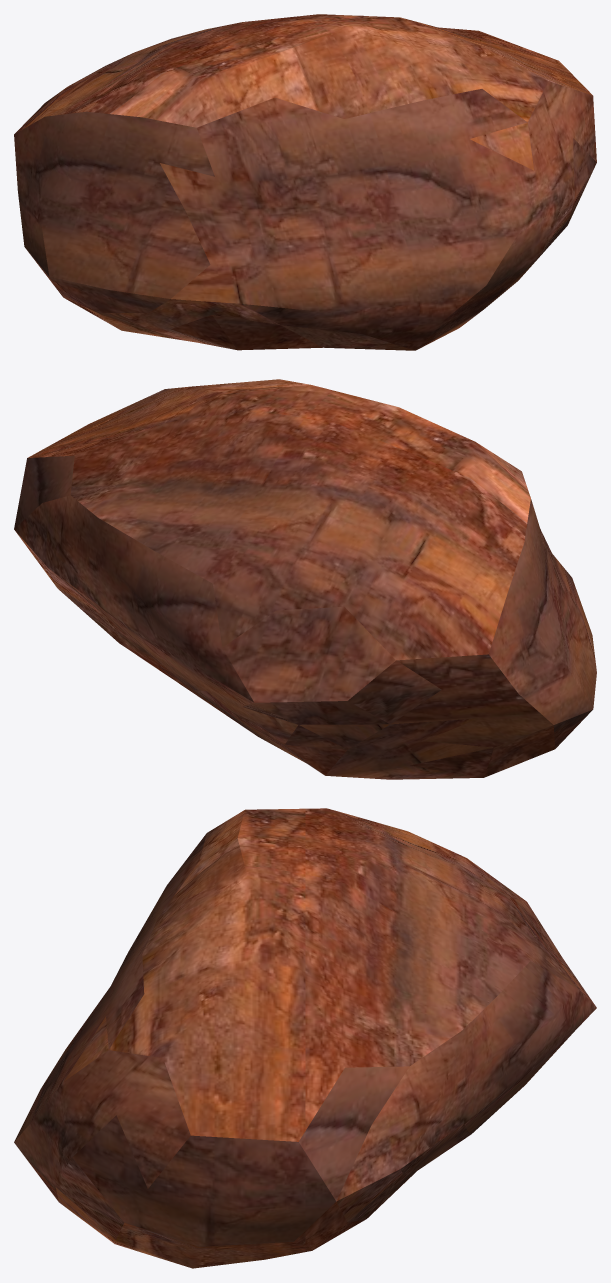
File: rock_02_red.glb
The picture shows the model from 3 angles, top to bottom: view 1: azimuth 30°, elevation 25°; view 2: azimuth 150°, elevation 25°; view 3: azimuth 270°, elevation 25°; orthographic projection. The views are drawn at different scales.
Visible parts, largest first — view 1: rock_02_red; view 2: rock_02_red; view 3: rock_02_red.
Boxes of the visible parts, x1,y1,x2,y2 form: rock_02_red: (14, 14, 596, 350); rock_02_red: (14, 379, 596, 779); rock_02_red: (14, 808, 596, 1268).
Bounding box in the file's own units: 0.8929 × 0.4576 × 0.7216.
Materials: 1 (1 with a texture image).
